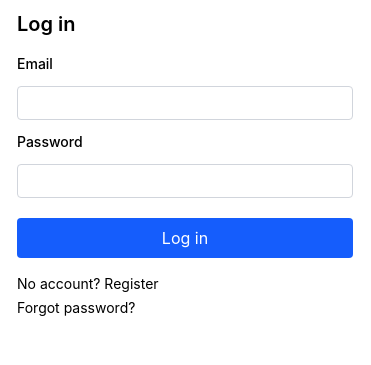
Test: Login page › shows a generic error message on invalid credentials
Type "alice@example.com" into the field labelled "Email" at (185, 103), box [17,86,353,120]
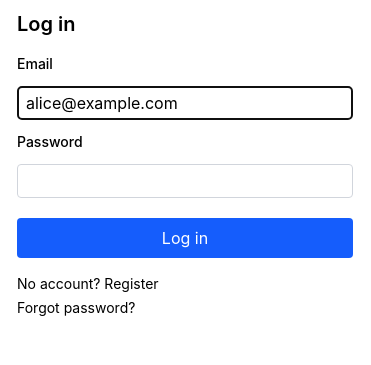
Type "wrong-password" into the password field labelled "Password" at (185, 181), box [17,164,353,198]
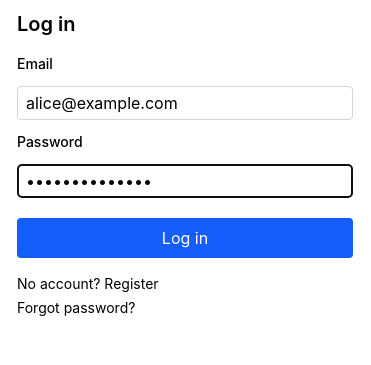
Click the button "Log in" at (185, 238), box [17,218,353,258]
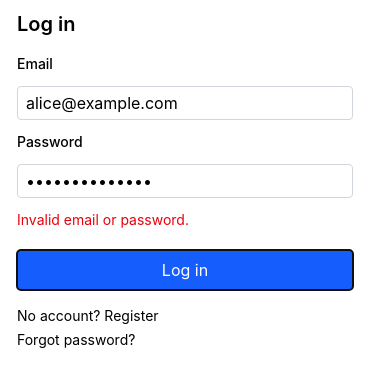
Check: the text "Invalid email or password." is shown, box [17,211,189,228]
